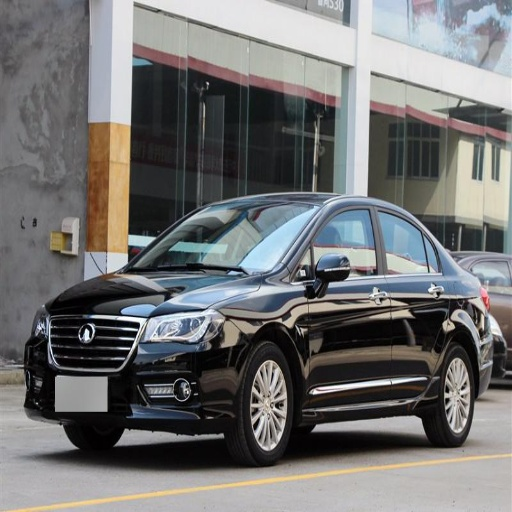back_left_door: (374, 204, 453, 395)
front_bumper: (28, 302, 248, 423)
front_glass: (124, 202, 318, 275)
front_left_door: (296, 204, 392, 397)
